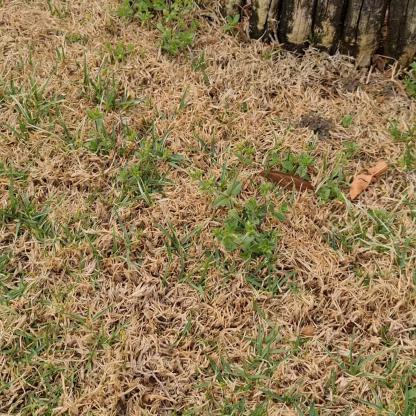Weeds: (189, 144, 289, 266), (86, 102, 169, 198), (117, 1, 194, 57), (272, 148, 337, 200)
